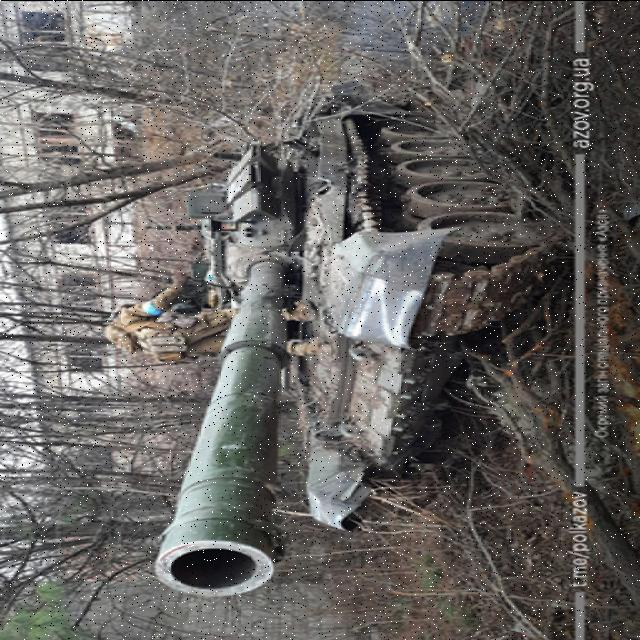TANK: (111, 83, 571, 615)
